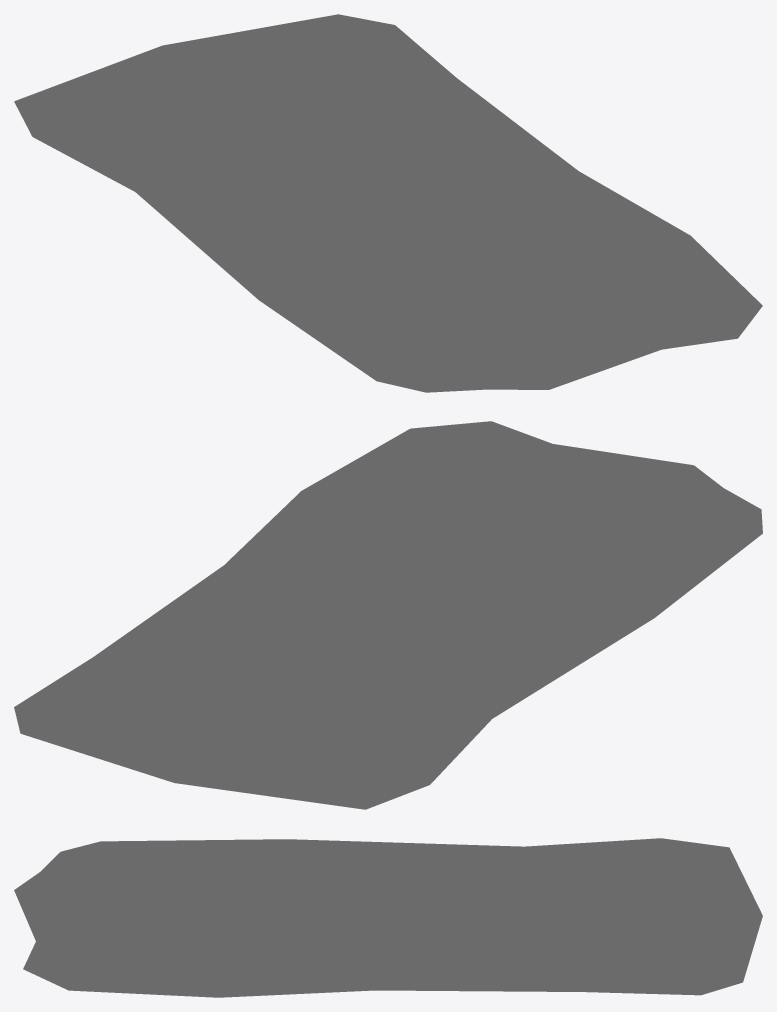
The model's file is bolang01.FBX.
3 renders of one model, top to bottom at view 1: azimuth 30°, elevation 25°; view 2: azimuth 150°, elevation 25°; view 3: azimuth 270°, elevation 25°, orthographic. The views are drawn at different scales.
Visible parts, largest first — view 1: Object175; view 2: Object175; view 3: Object175.
Part boxes in pixels (x1,y1,x2,y2): Object175: (14, 14, 762, 392); Object175: (14, 421, 762, 809); Object175: (14, 838, 762, 997).
Size of the model in its own units: 1748 by 0.1416 by 3467.
